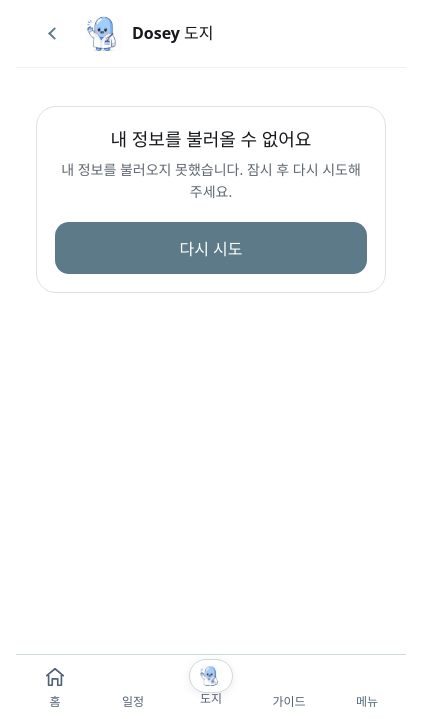
Test: 내 정보 조회 › GET 실패를 빈 상태로 숨기지 않고 재시도한다
Expected: the message shows "불러오지 못했습니다", [61,160,361,201]
Click the button "다시 시도".
click(211, 248)  # box [55,222,367,274]
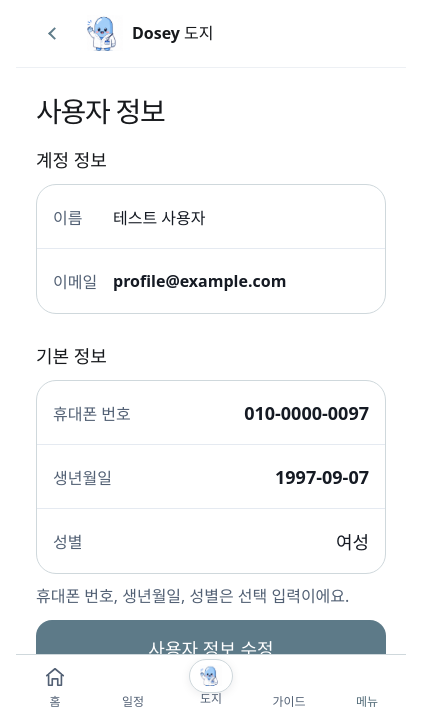
Expected: the text "profile@example.com" is shown, [113,270,286,292]
